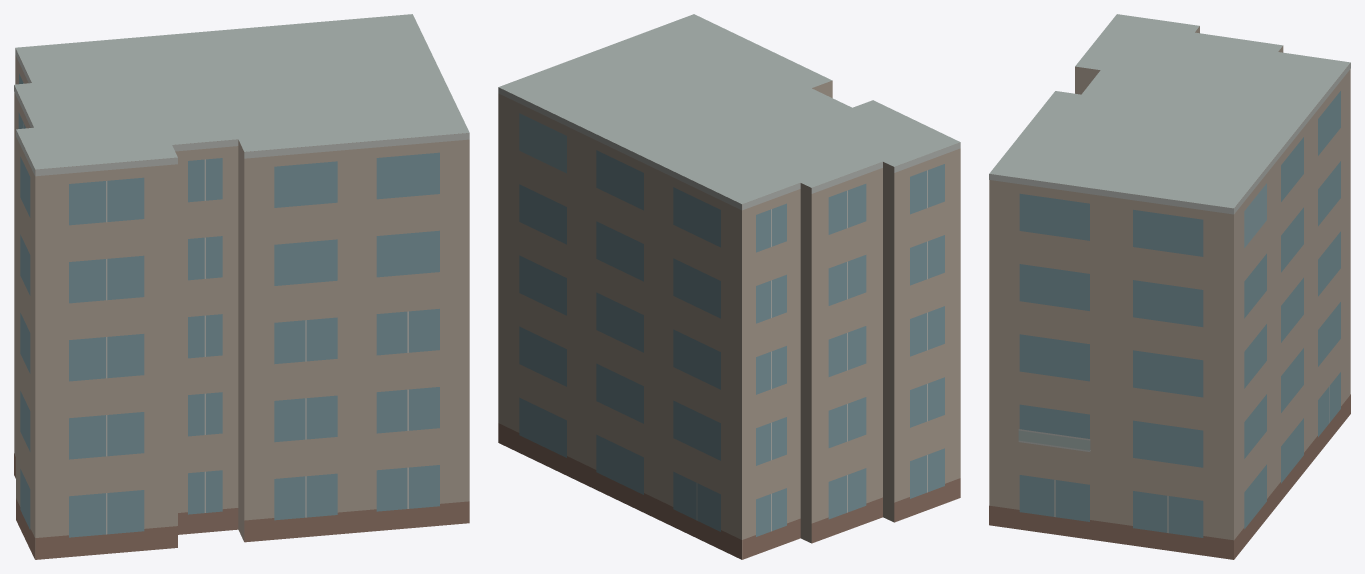
File: survey-upis-32856675.glb
3 renders of one model, left to right at view 1: azimuth 30°, elevation 25°; view 2: azimuth 150°, elevation 25°; view 3: azimuth 270°, elevation 25°, orthographic. The views are drawn at different scales.
Parts seen in each view (by area): view 1: survey-upis-32856675.tmp; view 2: survey-upis-32856675.tmp; view 3: survey-upis-32856675.tmp.
Part boxes in pixels (x1=…): survey-upis-32856675.tmp: x1=14, y1=14, x2=469, y2=559; survey-upis-32856675.tmp: x1=498, y1=14, x2=960, y2=559; survey-upis-32856675.tmp: x1=989, y1=14, x2=1350, y2=559.
Bounding box in the file's own units: 16.74 × 14.1 × 13.16.
